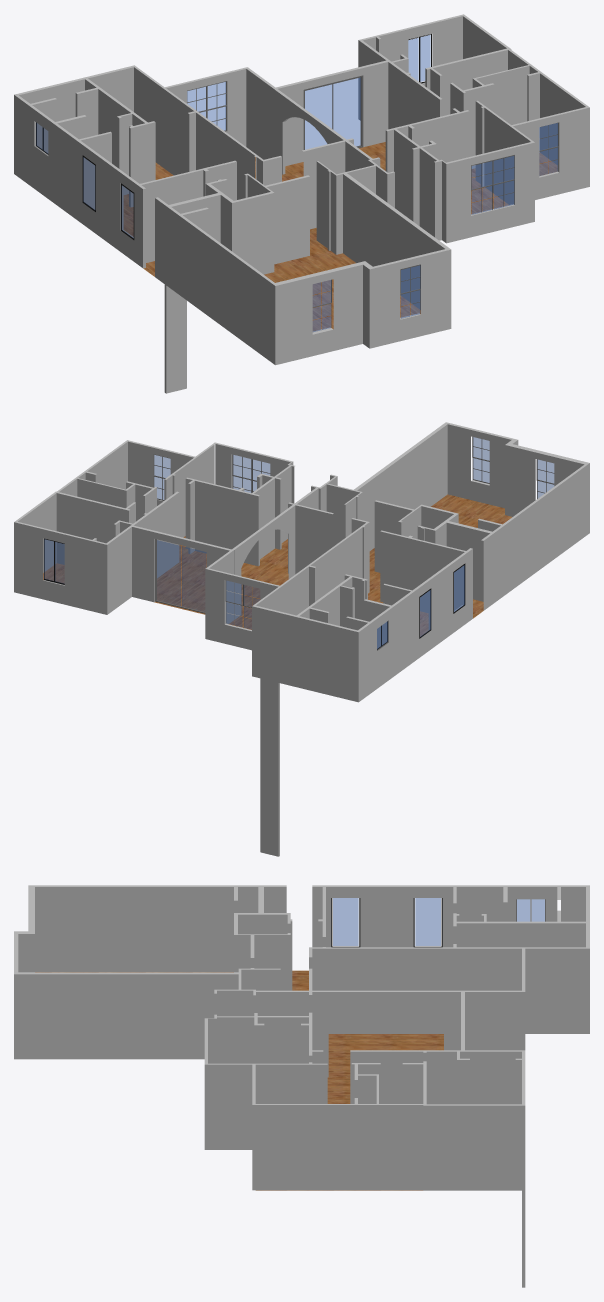
Rendered from Allysa.glb.
The picture shows the model from 3 angles, top to bottom: view 1: azimuth 30°, elevation 25°; view 2: azimuth 150°, elevation 25°; view 3: azimuth 270°, elevation 25°; orthographic projection. The views are drawn at different scales.
Size of the model in its own units: 16.89 by 11.73 by 18.68.
Materials: 6 (1 with a texture image).
